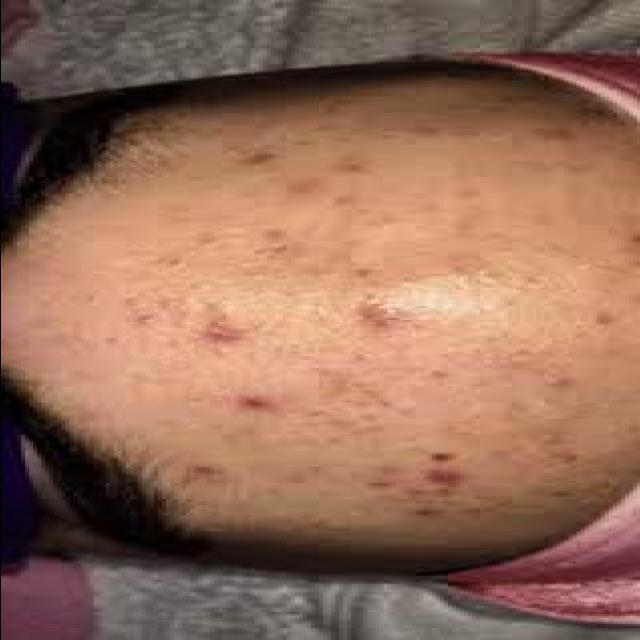Acne: (356, 300, 401, 330), (198, 322, 248, 347), (422, 469, 468, 488), (232, 394, 280, 411)
